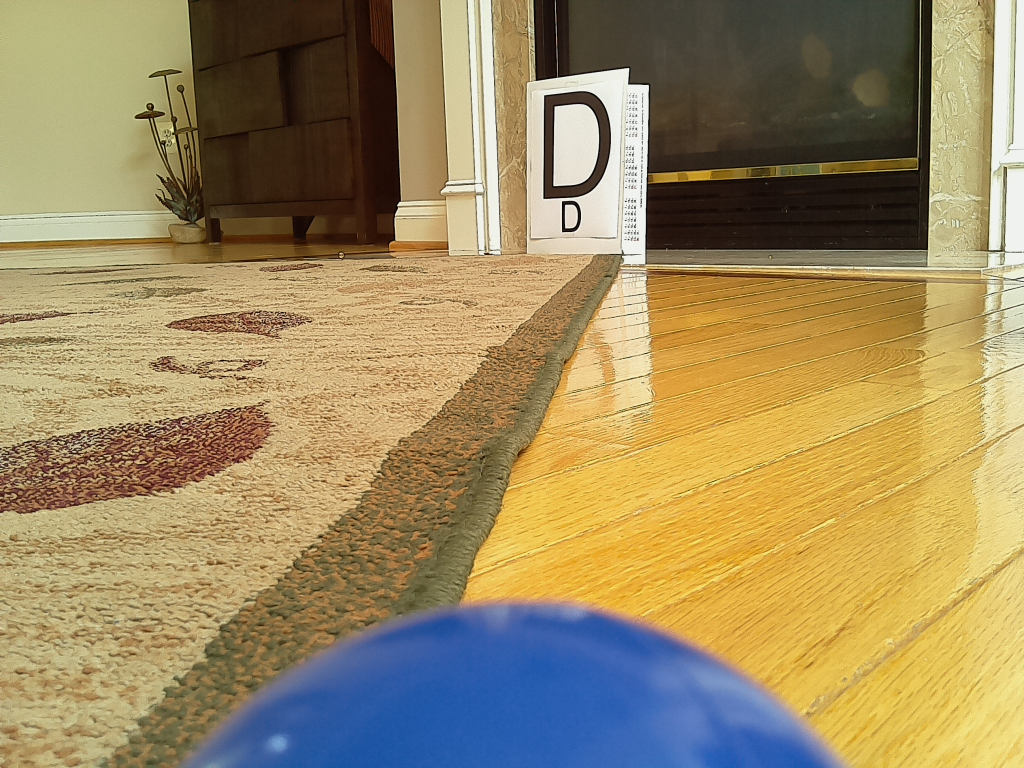letter: (544, 94, 611, 200)
